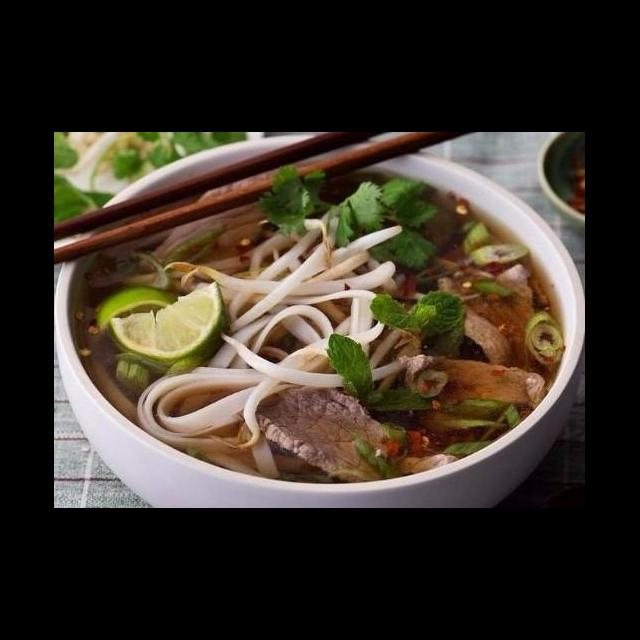banh pho: (202, 247, 432, 377), (88, 348, 308, 483)
pho bo: (71, 156, 585, 506)
thit bo: (242, 379, 462, 488), (134, 159, 306, 280), (432, 261, 542, 389), (398, 349, 552, 417)
